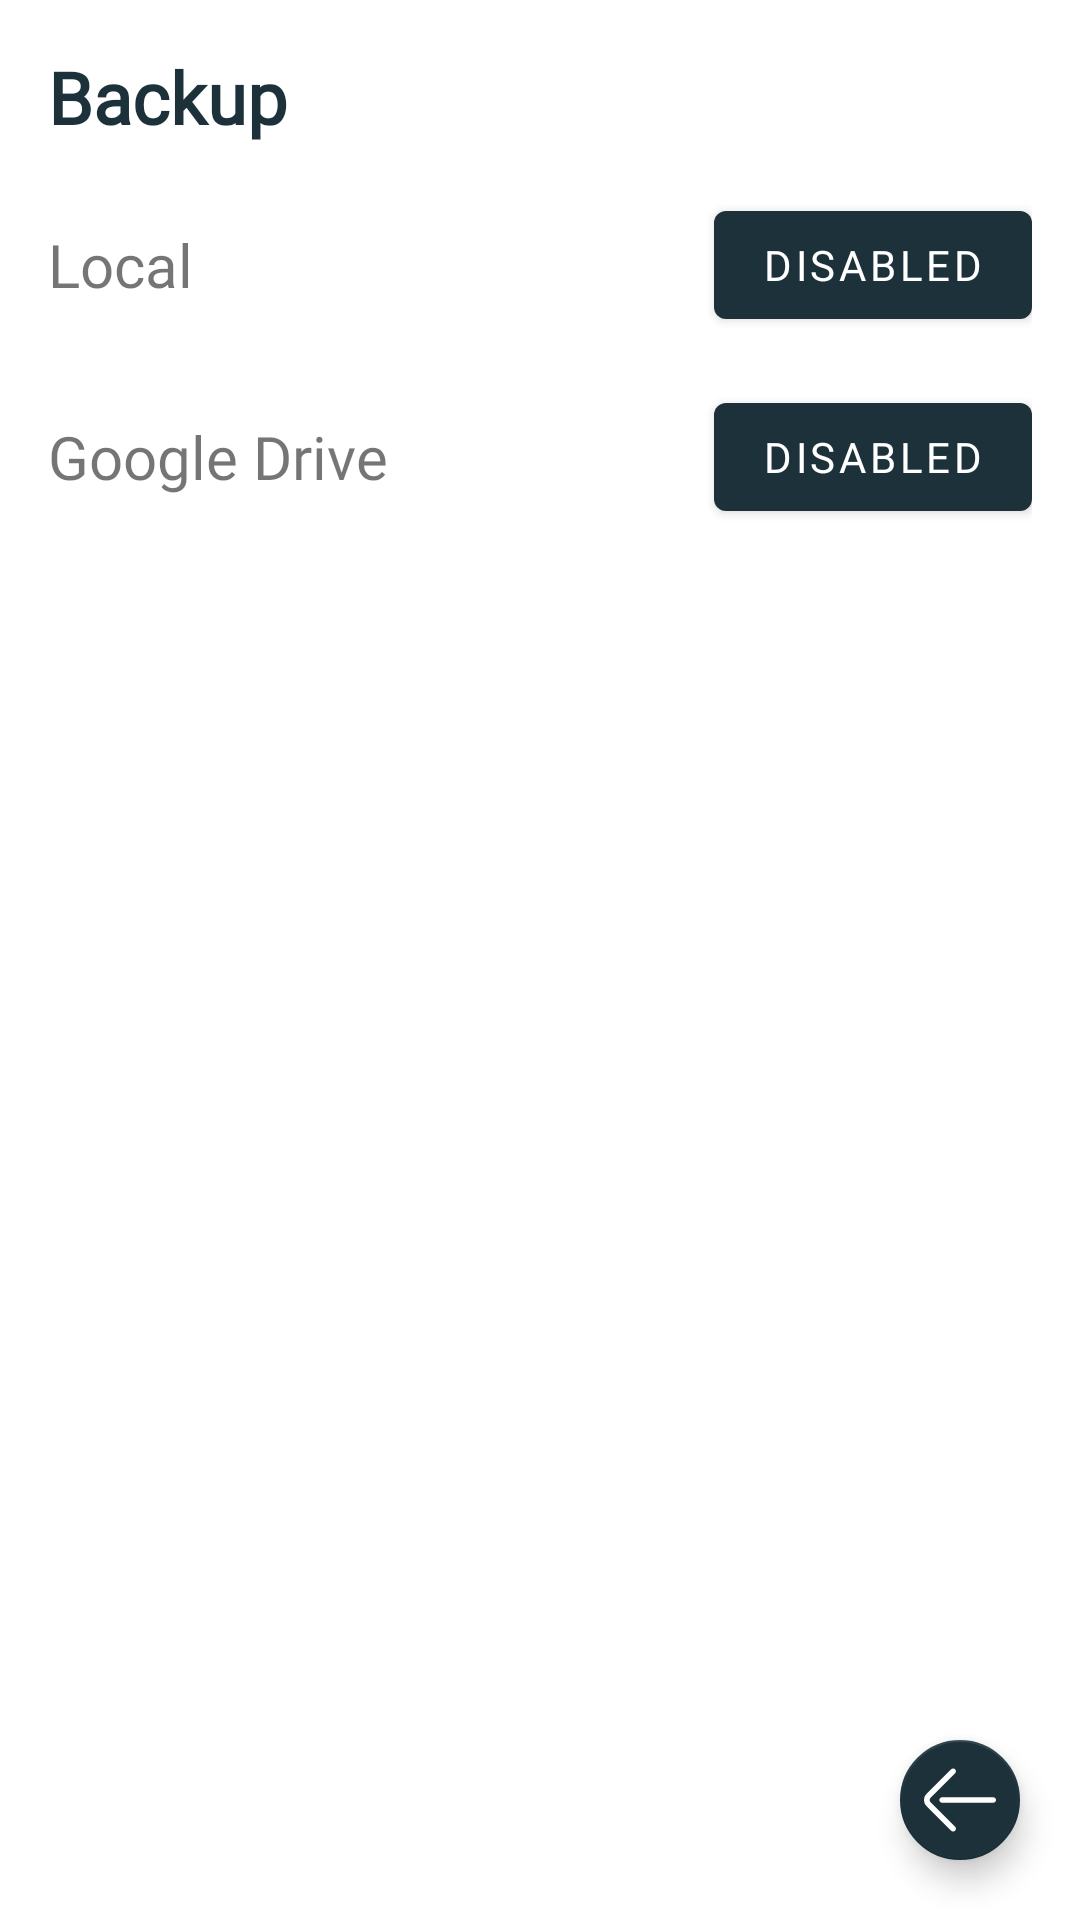

Where to tap for icons on this 1080*1920 app screen, as [x,y]:
arrow back: [961,1806]
